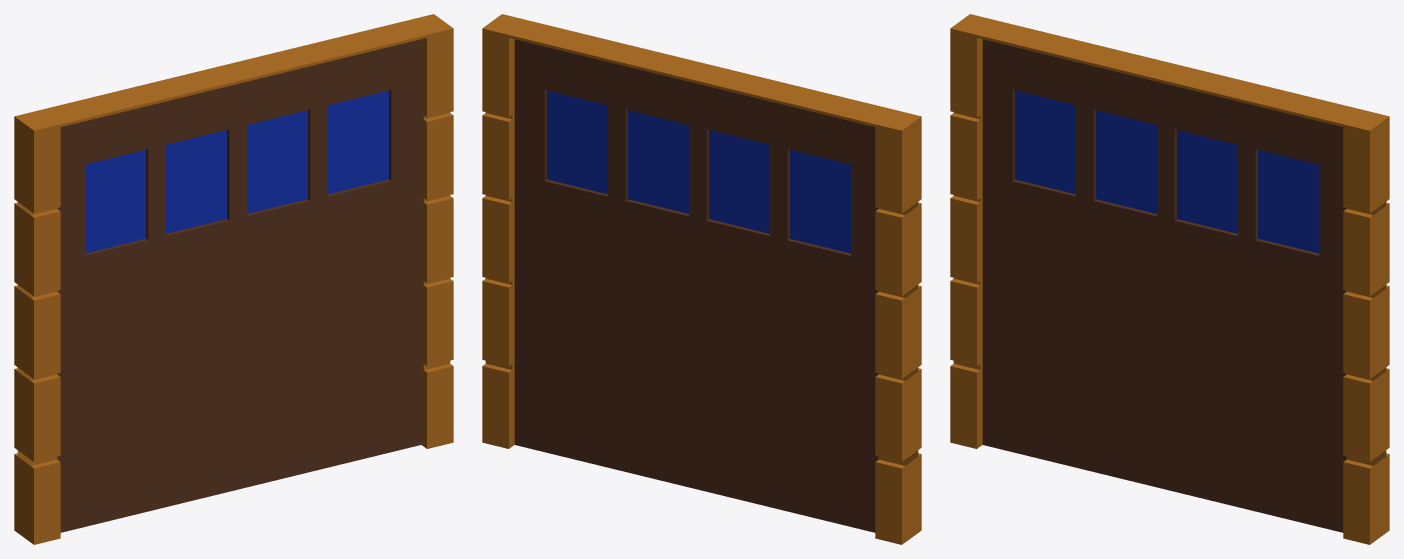
File: GarageDoor01_house5.obj
3 views of the same model, side by side, from view 1: azimuth 30°, elevation 25°; view 2: azimuth 150°, elevation 25°; view 3: azimuth 330°, elevation 25° (orthographic).
Visible parts, largest first — view 1: GarageDoor_01_Cube; view 2: GarageDoor_01_Cube; view 3: GarageDoor_01_Cube.
Boxes of the visible parts, x1,y1,x2,y2 form: GarageDoor_01_Cube: (14, 14, 453, 544); GarageDoor_01_Cube: (482, 14, 921, 544); GarageDoor_01_Cube: (950, 14, 1389, 544).
Bounding box in the file's own units: 3.65 × 3.44 × 0.298.
